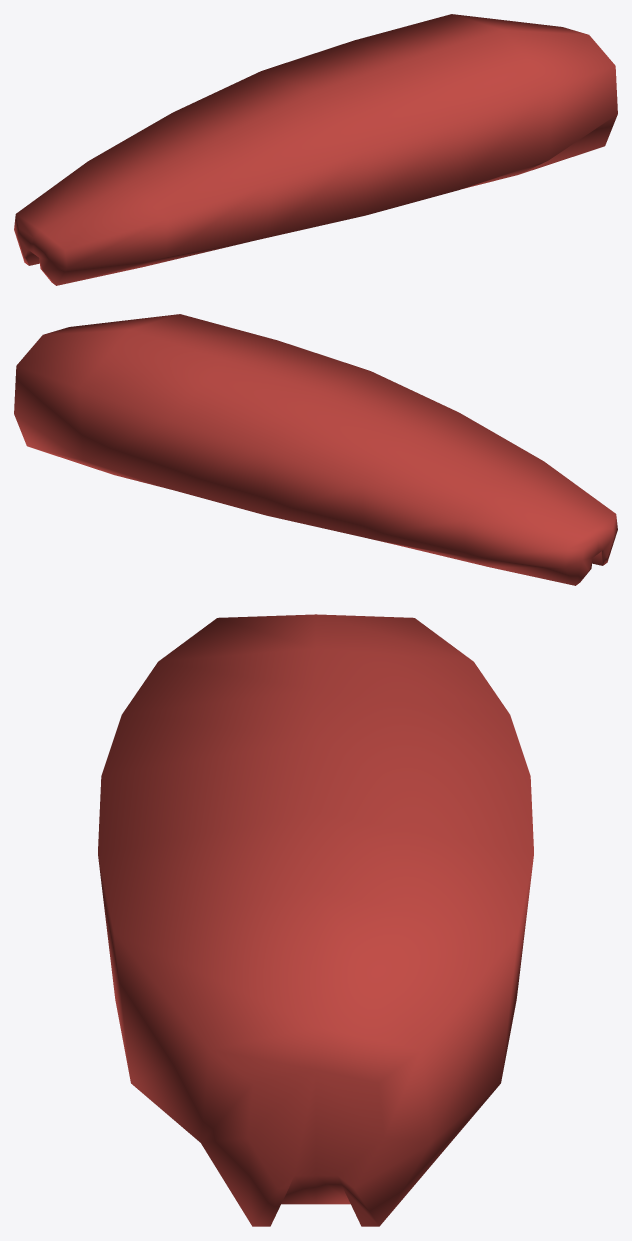
Rendered from fatbob_lod2.glb.
3 renders of one model, top to bottom at view 1: azimuth 30°, elevation 25°; view 2: azimuth 150°, elevation 25°; view 3: azimuth 270°, elevation 25°, orthographic. The views are drawn at different scales.
Parts seen in each view (by area): view 1: fatbob_lod2; view 2: fatbob_lod2; view 3: fatbob_lod2.
Boxes of the visible parts, <box> form: fatbob_lod2: <box>14,14,617,285</box>; fatbob_lod2: <box>14,314,617,585</box>; fatbob_lod2: <box>98,614,533,1226</box>.
Bounding box in the file's own units: 1 × 0.2283 × 0.336.
